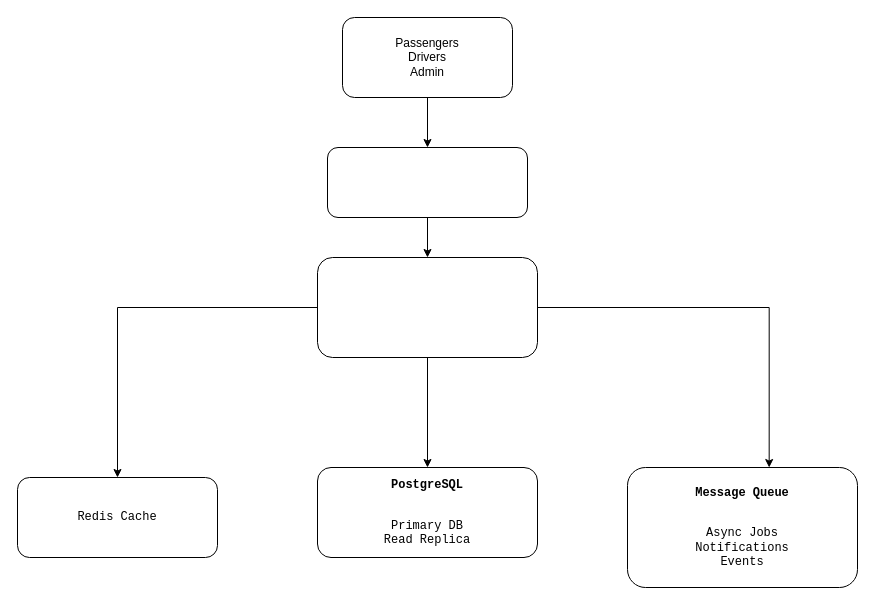
The diagram is 875 pixels wide and 605 high, and some of its shapes have lost their labels. The centre of each missing label's shape, as x and y in pixels:
Backend Services Auth Ride Driver Admin: [427,307]
Load Balancer: [427,182]
